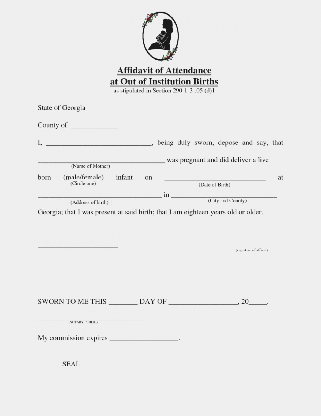textline: (32, 313, 145, 325), (34, 190, 163, 200), (45, 137, 155, 148), (36, 156, 167, 165), (36, 239, 126, 251), (107, 332, 184, 346), (170, 193, 282, 202), (69, 119, 122, 132), (162, 176, 267, 182), (166, 299, 241, 306), (107, 298, 139, 307), (249, 299, 276, 308)
